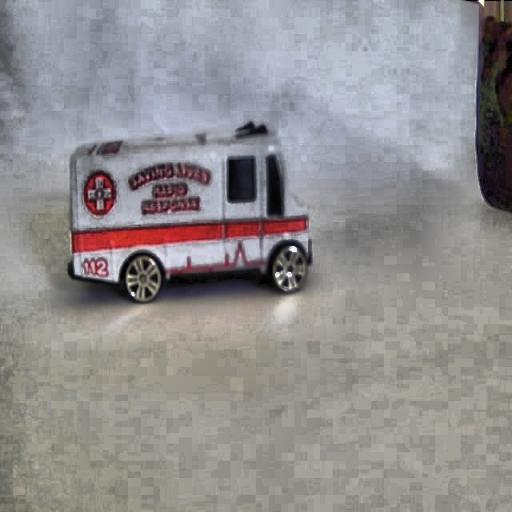ambulance: (67, 119, 313, 303)
